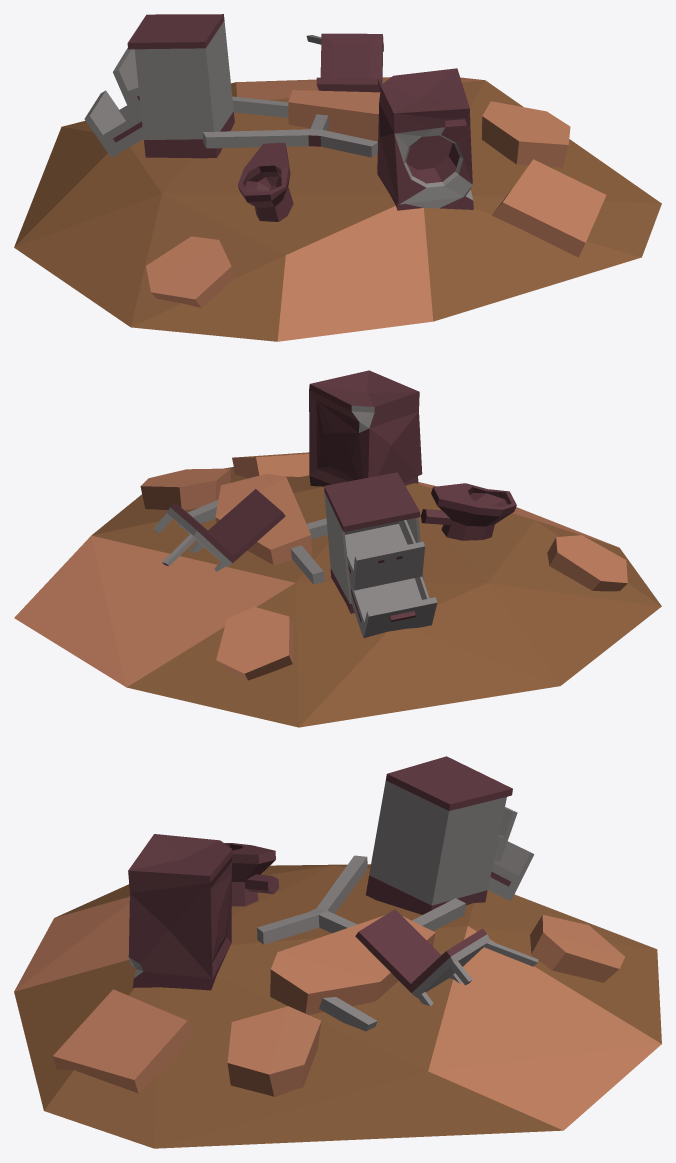
File: rubble-apocalypse-f.fbx
The picture shows the model from 3 angles, top to bottom: view 1: azimuth 30°, elevation 25°; view 2: azimuth 150°, elevation 25°; view 3: azimuth 270°, elevation 25°; orthographic projection. The views are drawn at different scales.
Visible parts, largest first — view 1: rubble-apocalypse-f; view 2: rubble-apocalypse-f; view 3: rubble-apocalypse-f.
Boxes of the visible parts, x1,y1,x2,y2 form: rubble-apocalypse-f: (14,14,661,341); rubble-apocalypse-f: (14,370,661,727); rubble-apocalypse-f: (14,756,661,1148).
Bounding box in the file's own units: 4.6 × 1.4 × 4.42.
